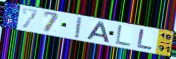7: (42, 11, 62, 34), (21, 7, 39, 30)
A: (85, 20, 111, 43)
I: (74, 16, 83, 40)
L: (136, 28, 154, 51), (115, 24, 133, 47)
